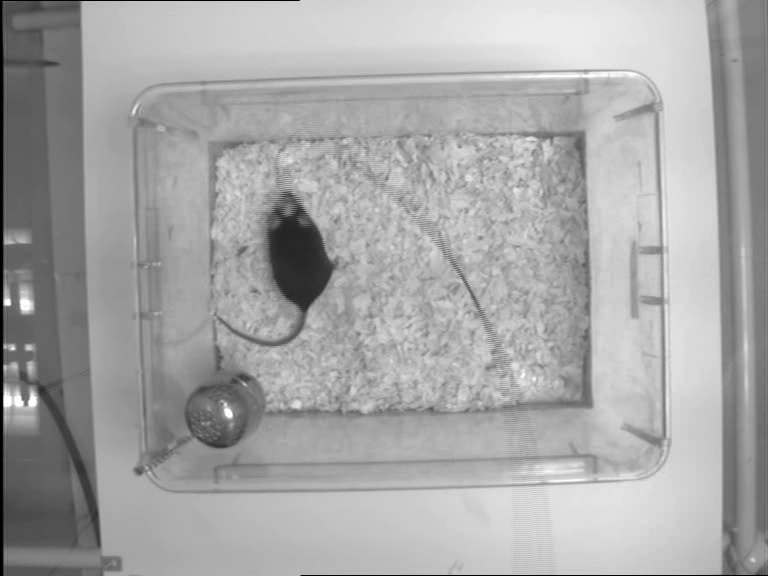mice: (214, 189, 341, 349)
